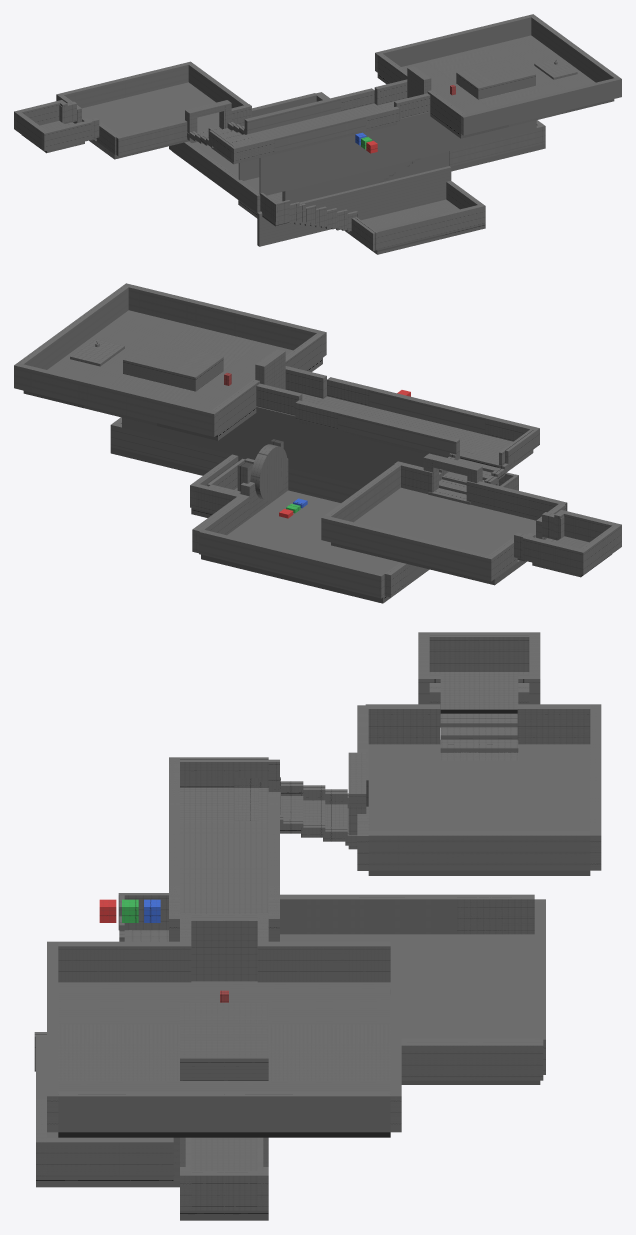
File: dungeon.glb
3 renders of one model, top to bottom at view 1: azimuth 30°, elevation 25°; view 2: azimuth 150°, elevation 25°; view 3: azimuth 270°, elevation 25°, orthographic. The views are drawn at different scales.
Parts seen in each view (by area): view 1: P02_Shaft_Wall_North, P02_StairD_Rail_S_01, StaticMeshActor_5, StaticMeshActor_28, StaticMeshActor_27, MCP_TEST_Candidate2_Wall_South, StaticMeshActor_6, MCP_TEST_MidBossFloor_East, MCP_TEST_TransformStair_Blocker, P02_Candidate1_Wall_WestNorth, StaticMeshActor_29, MCP_TEST_MidBossFloor_West (+36 smaller); view 2: P02_Shaft_Wall_South, StaticMeshActor_5, MCP_TEST_Candidate1_Floor, StaticMeshActor_27, StaticMeshActor_28, MCP_TEST_Candidate1_Wall_South, StaticMeshActor_6, MCP_TEST_MidBossFloor_East, MCP_TEST_TransformStair_Blocker, StaticMeshActor_29, MCP_TEST_MidBossFloor_West, P02_LowerRail_Main_South (+36 smaller); view 3: StaticMeshActor_5, MCP_TEST_Candidate1_Floor, StaticMeshActor_29, MCP_TEST_MidBossFloor_West, StaticMeshActor_9, P02_Candidate1_Wall_WestNorth, StaticMeshActor_20, MCP_TEST_TransformStair_Blocker, MCP_TEST_MidBossFloor_South, MCP_TEST_MidBossFloor_North, MCP_TEST_Candidate1_Wall_EastSouth, MCP_TEST_MidBossFloor_East (+28 smaller).
Boxes of the visible parts, box(x1,y1,x2,y2) form: P02_Shaft_Wall_North: box(259, 111, 536, 195); P02_StairD_Rail_S_01: box(257, 166, 451, 246); StaticMeshActor_5: box(82, 82, 243, 159); StaticMeshActor_28: box(461, 77, 621, 135); StaticMeshActor_27: box(375, 14, 535, 72); MCP_TEST_Candidate2_Wall_South: box(282, 151, 449, 203); StaticMeshActor_6: box(57, 61, 192, 108); MCP_TEST_MidBossFloor_East: box(483, 35, 614, 112); MCP_TEST_TransformStair_Blocker: box(456, 58, 535, 99); P02_Candidate1_Wall_WestNorth: box(177, 141, 261, 212); StaticMeshActor_29: box(531, 16, 618, 82); MCP_TEST_MidBossFloor_West: box(377, 61, 508, 138); P02_Shaft_Wall_South: box(122, 406, 427, 486); StaticMeshActor_5: box(331, 487, 535, 585); MCP_TEST_Candidate1_Floor: box(201, 490, 429, 603); StaticMeshActor_27: box(14, 363, 217, 436); StaticMeshActor_28: box(123, 283, 326, 357); MCP_TEST_Candidate1_Wall_South: box(199, 529, 384, 598); StaticMeshActor_6: box(321, 515, 494, 581); MCP_TEST_MidBossFloor_East: box(23, 310, 188, 408); MCP_TEST_TransformStair_Blocker: box(123, 339, 223, 391); StaticMeshActor_29: box(18, 286, 128, 369); MCP_TEST_MidBossFloor_West: box(157, 343, 322, 440); P02_LowerRail_Main_South: box(110, 422, 231, 470); StaticMeshActor_5: box(368, 740, 590, 875); MCP_TEST_Candidate1_Floor: box(280, 934, 540, 1084); StaticMeshActor_29: box(58, 1091, 390, 1132); MCP_TEST_MidBossFloor_West: box(58, 981, 390, 1024); StaticMeshActor_9: box(368, 831, 590, 870); P02_Candidate1_Wall_WestNorth: box(280, 894, 502, 934); StaticMeshActor_20: box(180, 823, 268, 912); MCP_TEST_TransformStair_Blocker: box(180, 1002, 268, 1080); MCP_TEST_MidBossFloor_South: box(268, 1024, 390, 1080); MCP_TEST_MidBossFloor_North: box(58, 1024, 179, 1080); MCP_TEST_Candidate1_Wall_EastSouth: box(401, 1038, 543, 1080); MCP_TEST_MidBossFloor_East: box(58, 1081, 390, 1137).
Bounding box in the file's own units: 101 × 25 × 51.13.
169 materials, 168 textured.
